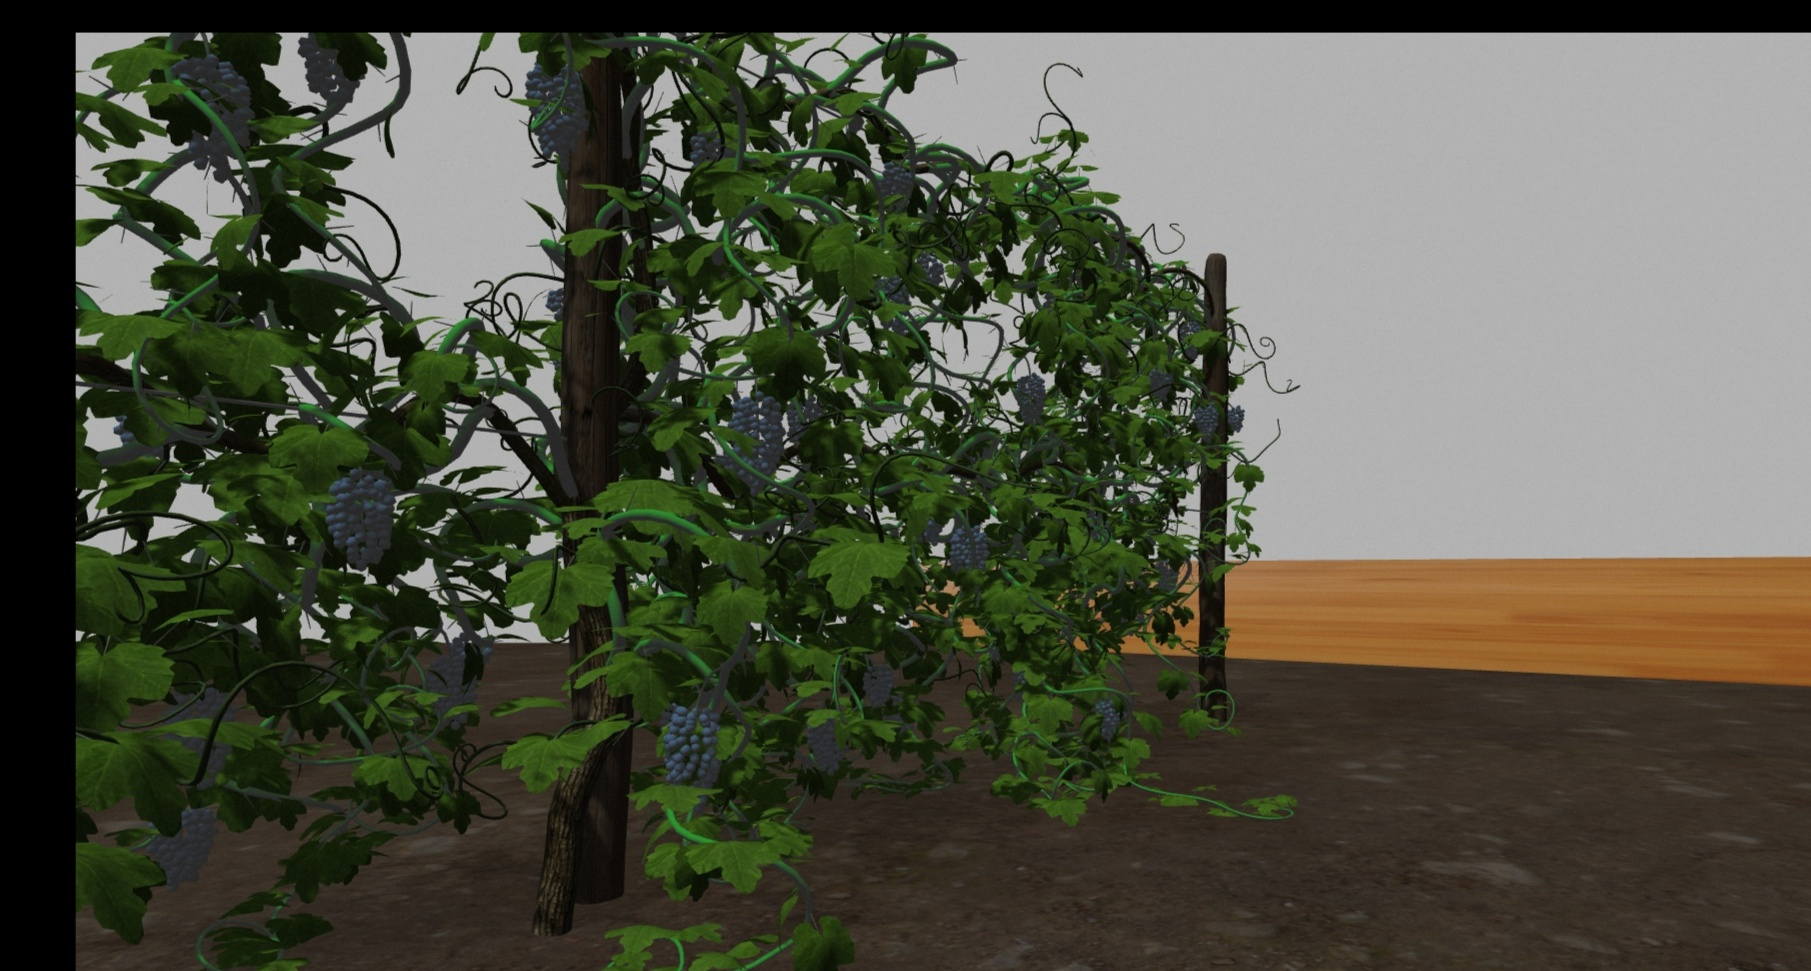grape: (172, 50, 252, 186), (322, 468, 396, 570), (143, 801, 218, 890), (525, 63, 587, 165), (727, 392, 785, 494), (297, 36, 364, 108), (661, 703, 719, 779), (422, 659, 481, 729), (806, 715, 848, 775), (947, 521, 989, 576), (1010, 371, 1048, 427), (877, 160, 909, 212), (861, 660, 895, 708), (1095, 698, 1123, 744), (1192, 401, 1219, 443), (1177, 318, 1203, 359), (914, 251, 944, 285), (689, 131, 719, 163), (1153, 559, 1179, 593), (1147, 366, 1171, 400), (1226, 403, 1244, 431)
